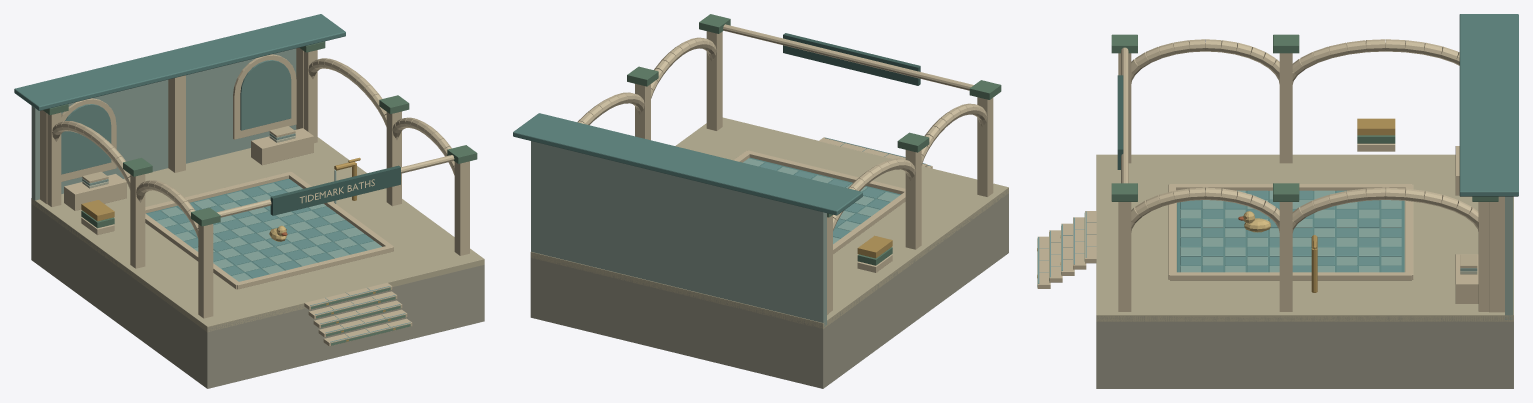
Rendered from tidemark-baths.glb.
3 views of the same model, side by side, from view 1: azimuth 30°, elevation 25°; view 2: azimuth 150°, elevation 25°; view 3: azimuth 270°, elevation 25° (orthographic). The views are drawn at different scales.
Visible parts, largest first — view 1: tidemark-baths_Architecture_Mesh, tidemark-baths_Roof_Mesh; view 2: tidemark-baths_Architecture_Mesh, tidemark-baths_Roof_Mesh; view 3: tidemark-baths_Architecture_Mesh, tidemark-baths_Roof_Mesh, retreat_Duck_Mesh.
Boxes of the visible parts, bbox=[...] form: tidemark-baths_Architecture_Mesh: bbox=[31, 41, 484, 388]; tidemark-baths_Roof_Mesh: bbox=[14, 14, 345, 110]; tidemark-baths_Architecture_Mesh: bbox=[530, 14, 1008, 388]; tidemark-baths_Roof_Mesh: bbox=[513, 113, 862, 215]; tidemark-baths_Architecture_Mesh: bbox=[1037, 34, 1513, 388]; tidemark-baths_Roof_Mesh: bbox=[1459, 14, 1518, 196]; retreat_Duck_Mesh: bbox=[1238, 211, 1270, 232].
Size of the model in its own units: 8.87 by 4.79 by 10.15.
